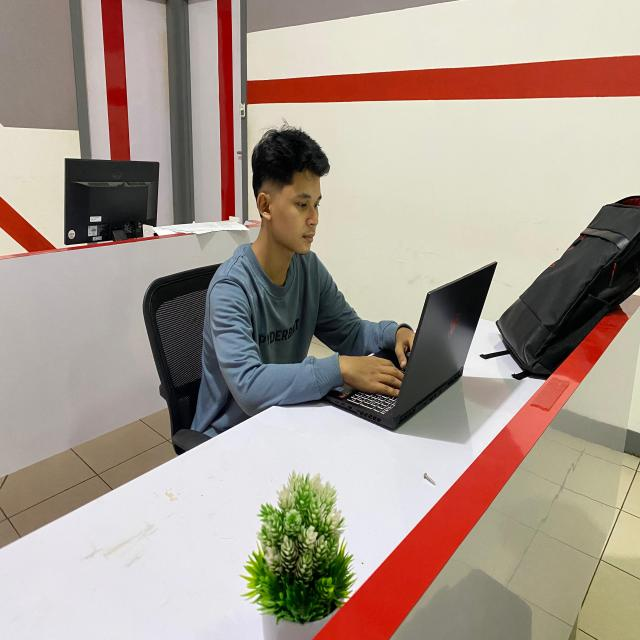nohelmet: (248, 120, 331, 255)
